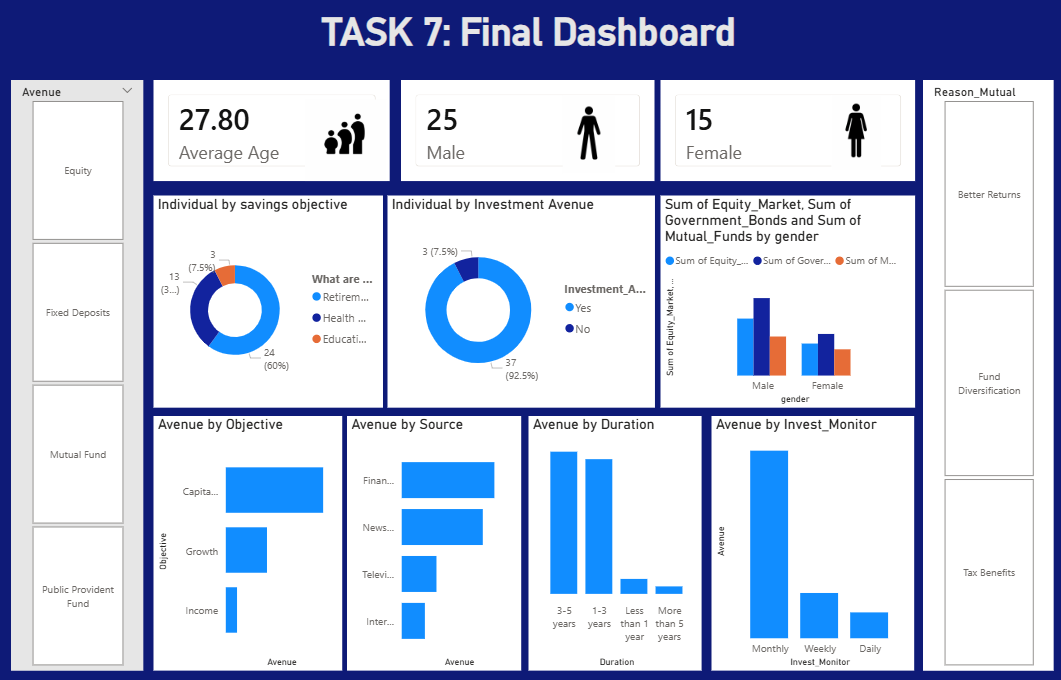

Layout of this report page (visuals, bound fields, positions):
{"tool":"powerbi","page":{"name":"Task 7","canvas":[1280,825],"ordinal":6},"visuals":[{"type":"textbox","title":"TASK 7: Final Dashboard","box":[25.2,20.2,1221.2,62],"z":0},{"type":"donutChart","title":"Individual by savings objective","fields":{"Category":["Data_set 2.What are your savings objectives?"],"Y":["CountNonNull(Data_set 2.gender)"]},"box":[188.1,241.9,273.8,253.6],"z":1000},{"type":"donutChart","title":"Individual by Investment Avenue","fields":{"Y":["CountNonNull(Data_set 2.gender)"],"Category":["Data_set 2.Investment_Avenues"]},"box":[467,241.9,319.2,253.6],"z":2000},{"type":"cardVisual","fields":{"Data":["Data_set 2.Average Age"]},"box":[188.1,104.1,282.2,120.9],"z":3000},{"type":"clusteredColumnChart","fields":{"Category":["Data_set 2.gender"],"Y":["Sum(Data_set 2.Equity_Market)","Sum(Data_set 2.Government_Bonds)","Sum(Data_set 2.Mutual_Funds)"]},"box":[792.9,241.9,304,253.6],"z":4000},{"type":"cardVisual","fields":{"Data":["Data_set 2.Male"]},"box":[483.8,104.1,302.4,120.9],"z":5000},{"type":"cardVisual","fields":{"Data":["Data_set 2.Female"]},"box":[792.9,104.1,304,120.9],"z":6000},{"type":"clusteredBarChart","fields":{"Category":["Data_set 2.Objective"],"Y":["CountNonNull(Data_set 2.Avenue)"]},"box":[188.1,505.6,225.1,304],"z":7000},{"type":"slicer","fields":{"Values":["Data_set 2.Avenue"]},"box":[18.5,104.1,157.9,705.5],"z":8000},{"type":"clusteredColumnChart","fields":{"Category":["Data_set 2.Duration"],"Y":["CountNonNull(Data_set 2.Avenue)"]},"box":[636.6,505.6,206.6,304],"z":9000},{"type":"clusteredColumnChart","fields":{"Y":["CountNonNull(Data_set 2.Avenue)"],"Category":["Data_set 2.Invest_Monitor"]},"box":[855,505.6,241.9,304],"z":10000},{"type":"slicer","fields":{"Values":["Data_set 2.Reason_Mutual"]},"box":[1107,104.1,156.2,705.5],"z":11000},{"type":"clusteredBarChart","fields":{"Category":["Data_set 2.Source"],"Y":["CountNonNull(Data_set 2.Avenue)"]},"box":[418.3,505.6,208.3,304],"z":12000},{"type":"image","box":[346,127.7,144.5,97.4],"z":13000},{"type":"image","box":[656.8,122.6,100.8,94.1],"z":14000},{"type":"image","box":[947.4,122.6,159.6,89],"z":15000}]}

Visuals, with their boxes in screenshot pixels (x1, y1, x2, y2), scaled from the page's 1280x825 canvas onto the 1061x680 screenshot:
"TASK 7: Final Dashboard" textbox: x1=21, y1=17, x2=1033, y2=68
"Individual by savings objective" donutChart: x1=156, y1=199, x2=383, y2=408
"Individual by Investment Avenue" donutChart: x1=387, y1=199, x2=652, y2=408
cardVisual - Data_set 2.Average Age: x1=156, y1=86, x2=390, y2=185
clusteredColumnChart - Data_set 2.gender x Sum(Data_set 2.Equity_Market): x1=657, y1=199, x2=909, y2=408
cardVisual - Data_set 2.Male: x1=401, y1=86, x2=652, y2=185
cardVisual - Data_set 2.Female: x1=657, y1=86, x2=909, y2=185
clusteredBarChart - Data_set 2.Objective x CountNonNull(Data_set 2.Avenue): x1=156, y1=417, x2=343, y2=667
slicer - Data_set 2.Avenue: x1=15, y1=86, x2=146, y2=667
clusteredColumnChart - Data_set 2.Duration x CountNonNull(Data_set 2.Avenue): x1=528, y1=417, x2=699, y2=667
clusteredColumnChart - CountNonNull(Data_set 2.Avenue) x Data_set 2.Invest_Monitor: x1=709, y1=417, x2=909, y2=667
slicer - Data_set 2.Reason_Mutual: x1=918, y1=86, x2=1047, y2=667
clusteredBarChart - Data_set 2.Source x CountNonNull(Data_set 2.Avenue): x1=347, y1=417, x2=519, y2=667
image: x1=287, y1=105, x2=407, y2=186
image: x1=544, y1=101, x2=628, y2=179
image: x1=785, y1=101, x2=918, y2=174
